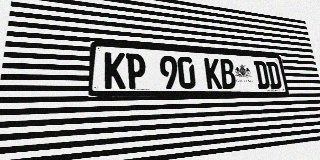0: (177, 56, 196, 89)
9: (159, 55, 179, 89)
B: (219, 59, 237, 89)
D: (253, 61, 270, 89), (266, 61, 282, 89)
K: (104, 52, 126, 89), (204, 58, 222, 89)
P: (126, 53, 146, 89)
